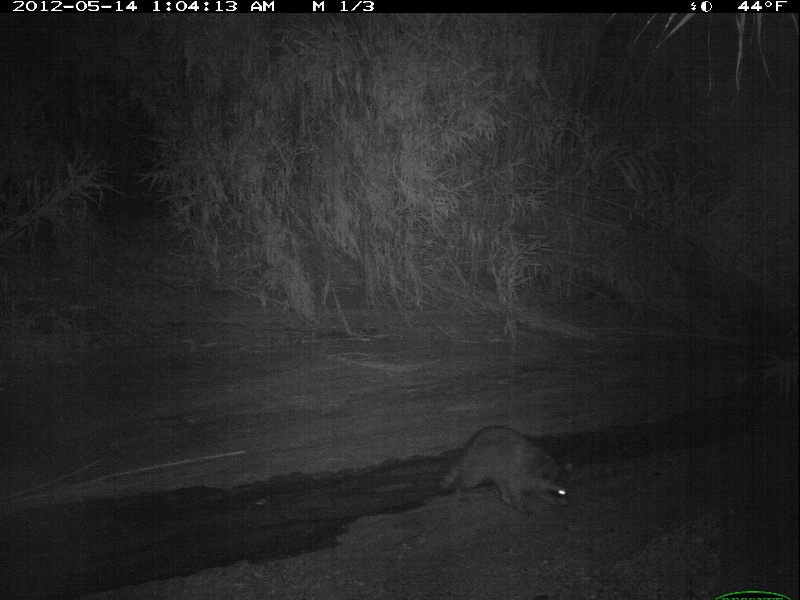raccoon: (439, 420, 575, 513)
